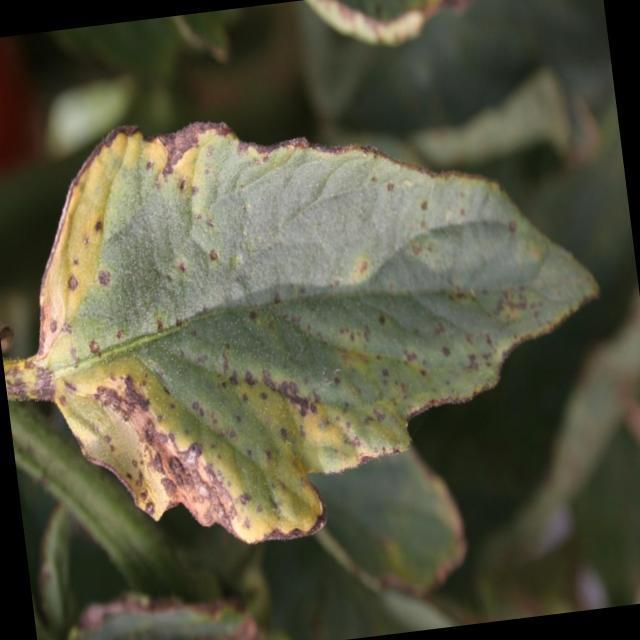Bacterial Spot: (19, 80, 626, 550)
